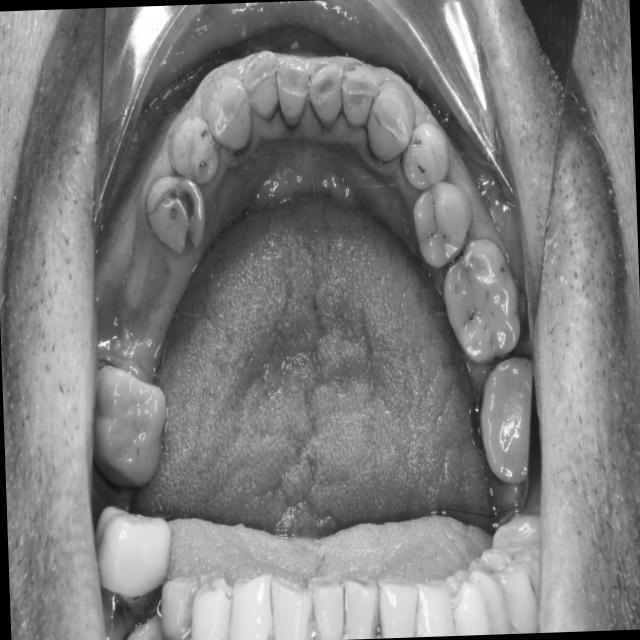tooth: (434, 228, 537, 369), (84, 350, 178, 497), (471, 346, 540, 497), (407, 168, 486, 287), (355, 63, 429, 184), (143, 162, 212, 263), (200, 72, 259, 167), (164, 107, 229, 193), (395, 113, 459, 199), (266, 39, 318, 137), (299, 51, 357, 138), (336, 55, 386, 142), (238, 49, 289, 125)
